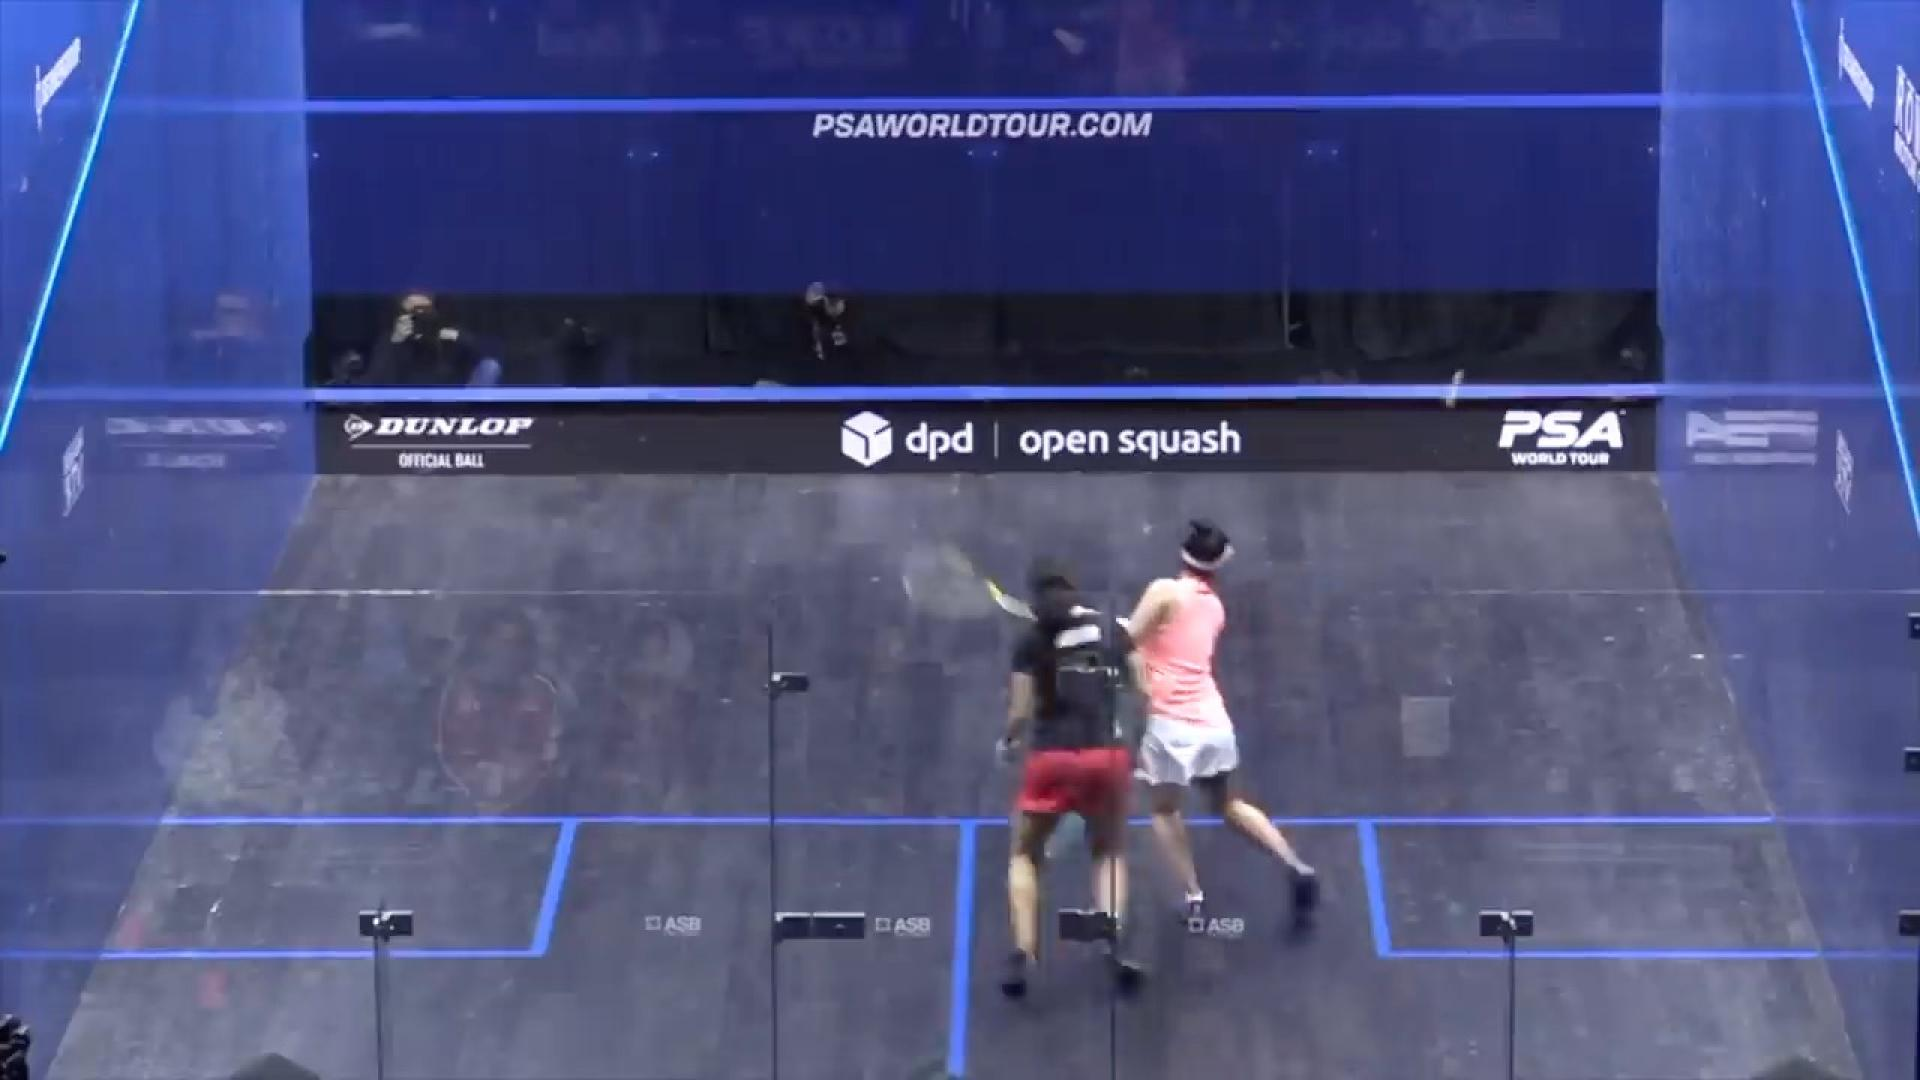Squash-Ball: (1431, 355, 1478, 419)
